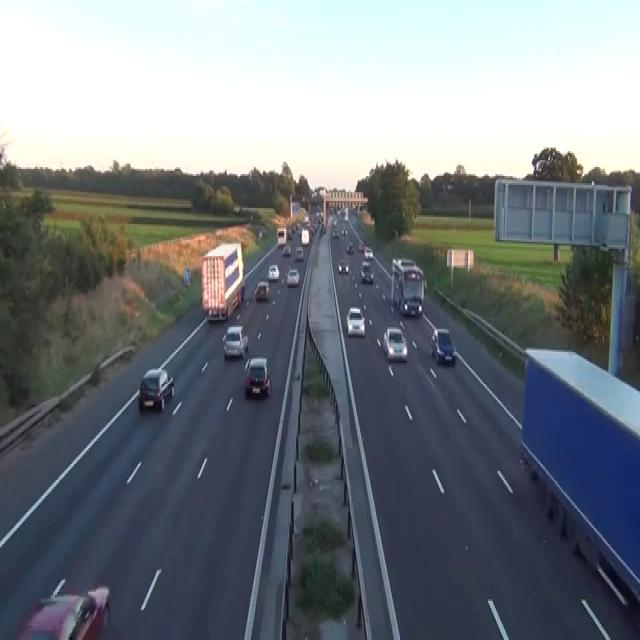Car: (15, 578, 110, 638), (138, 366, 174, 411), (244, 356, 271, 396), (430, 327, 456, 363), (222, 325, 248, 359), (383, 325, 407, 361), (346, 306, 365, 336), (391, 256, 415, 276), (402, 295, 422, 317), (360, 260, 374, 282), (254, 281, 270, 300), (285, 267, 299, 286), (267, 263, 279, 281), (337, 258, 348, 274), (364, 245, 373, 258), (282, 244, 291, 256), (296, 246, 303, 260), (346, 240, 354, 252), (319, 224, 326, 235), (446, 183, 454, 192), (358, 240, 364, 251), (303, 215, 309, 226), (331, 230, 339, 238), (233, 204, 240, 213), (286, 231, 292, 240), (341, 228, 347, 236), (309, 226, 315, 234), (332, 217, 337, 226), (258, 228, 262, 238), (291, 224, 295, 233)
Truck: (519, 347, 639, 608), (201, 242, 244, 322), (391, 256, 426, 316), (276, 226, 286, 245), (301, 228, 309, 245)
